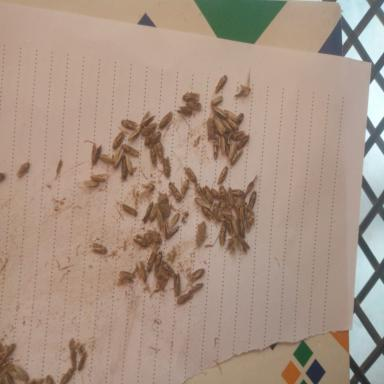pbw: (218, 185, 232, 209), (9, 363, 28, 380), (212, 75, 227, 96), (164, 220, 180, 239), (0, 342, 15, 362), (142, 200, 154, 224), (196, 220, 206, 248), (147, 227, 163, 244), (144, 130, 161, 146), (141, 110, 156, 128), (91, 143, 102, 167), (168, 181, 181, 201), (236, 235, 251, 252), (136, 259, 147, 282), (213, 115, 226, 134), (234, 83, 250, 98), (159, 110, 172, 128), (241, 181, 254, 199), (161, 260, 175, 276), (188, 268, 204, 282), (139, 184, 155, 198), (112, 131, 125, 148), (113, 147, 124, 167), (195, 182, 207, 200), (121, 144, 139, 156), (122, 202, 137, 216), (142, 122, 157, 136), (224, 108, 238, 123), (146, 250, 156, 271), (217, 165, 228, 184), (60, 368, 73, 384), (239, 203, 245, 237), (245, 210, 254, 232), (225, 116, 239, 130), (237, 134, 250, 149), (205, 180, 213, 204), (177, 292, 193, 304), (207, 117, 215, 140), (127, 127, 141, 140), (150, 202, 159, 222), (185, 167, 197, 182), (17, 162, 29, 177), (228, 140, 237, 160), (231, 149, 243, 164), (195, 197, 211, 208), (176, 105, 192, 116), (216, 201, 225, 220), (183, 91, 200, 101), (143, 234, 156, 247), (92, 242, 106, 254), (220, 117, 232, 131), (202, 206, 216, 218), (212, 135, 219, 159), (156, 141, 164, 162), (121, 119, 137, 129), (134, 235, 147, 247), (212, 106, 226, 117), (163, 156, 170, 178), (78, 353, 87, 370), (227, 187, 235, 206), (248, 191, 256, 210), (156, 210, 164, 229), (170, 212, 180, 227), (188, 283, 203, 293), (231, 130, 246, 140), (100, 154, 115, 164), (120, 270, 136, 279), (231, 217, 239, 235), (116, 277, 134, 285), (224, 217, 233, 233), (174, 272, 180, 296), (155, 250, 163, 268), (210, 95, 223, 106), (150, 144, 156, 167), (55, 160, 62, 179), (210, 188, 222, 199), (182, 179, 189, 197), (219, 224, 225, 245), (212, 202, 218, 223), (234, 198, 240, 218), (70, 348, 76, 368), (227, 236, 236, 249), (121, 155, 126, 178), (186, 101, 202, 108), (90, 175, 106, 182), (126, 156, 133, 172), (4, 374, 15, 384), (25, 378, 43, 384), (224, 139, 230, 157), (164, 220, 170, 237), (220, 135, 225, 155), (84, 180, 99, 186), (237, 112, 244, 124), (232, 189, 244, 196), (243, 202, 248, 218), (219, 209, 232, 215), (45, 376, 53, 384), (0, 172, 6, 180)
